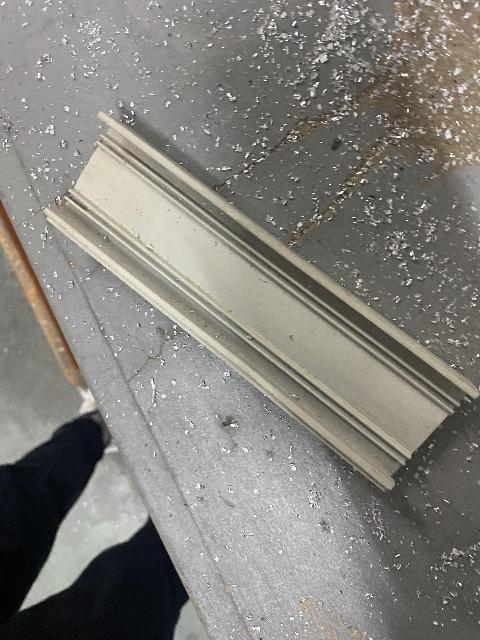Metal: (44, 110, 480, 494)
